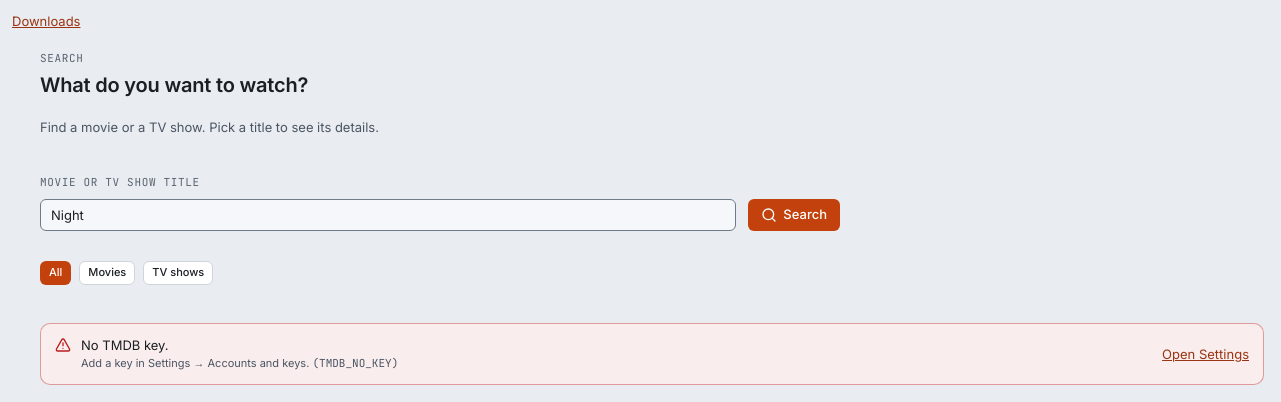
catalog screens › links missing credentials to settings without making requests
Step 1. Click the link "Open Settings" → (1206, 354), box left=1162, top=344, right=1249, bottom=363
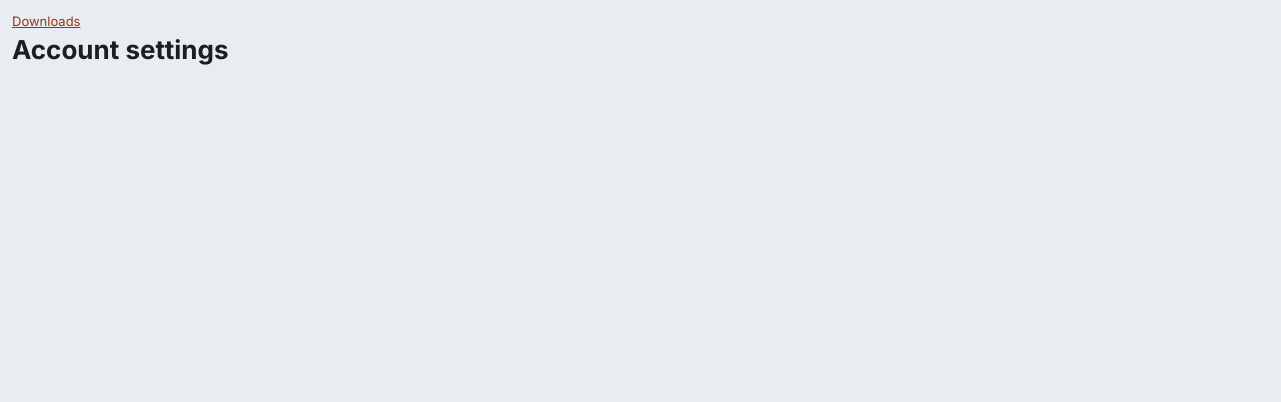
Result: the heading "Account settings" is shown at left=12, top=34, right=228, bottom=65
